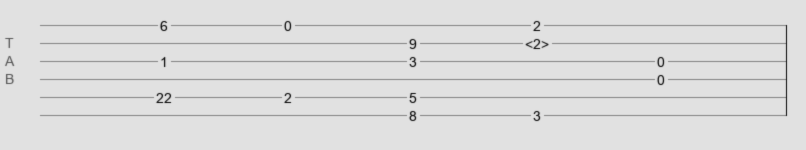0: (284, 18, 292, 28), (657, 72, 665, 82), (657, 54, 665, 64)
1: (160, 54, 168, 64)
2: (284, 90, 292, 100), (533, 18, 541, 28)
22: (156, 90, 172, 100)
3: (409, 54, 417, 64), (533, 108, 541, 118)
5: (409, 90, 417, 100)
6: (160, 18, 168, 28)
8: (409, 108, 417, 118)
9: (409, 36, 417, 46)
harmonic: (525, 36, 549, 46)
